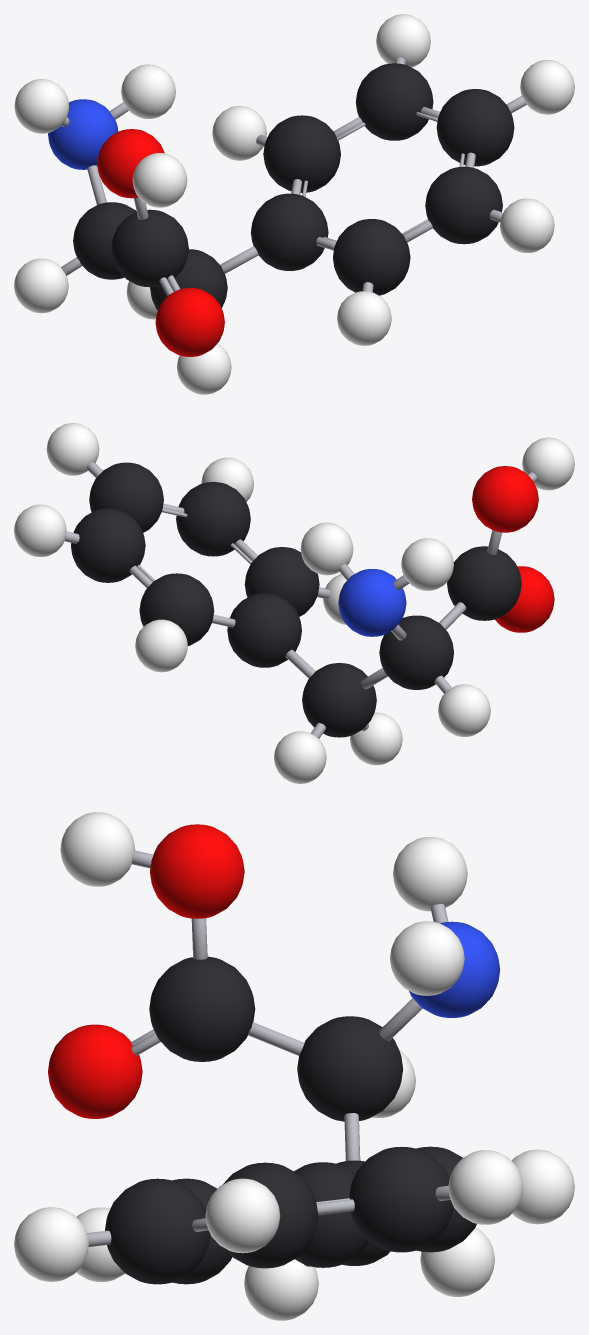
The model's file is phenylalanine.glb.
3 renders of one model, top to bottom at view 1: azimuth 30°, elevation 25°; view 2: azimuth 150°, elevation 25°; view 3: azimuth 270°, elevation 25°, orthographic. The views are drawn at different scales.
Parts seen in each view (by area): view 1: C3, C7, C5, C6, C4, C9, C8, O10, N0, C1, O11, H22 (+11 smaller); view 2: C3, C5, C7, C2, C9, C1, N0, C4, O11, C6, C8, O10 (+11 smaller); view 3: C9, C1, C7, C5, O11, O10, C6, H19, H18, H13, H20, H22 (+15 smaller).
Boxes of the visible parts, bbox=[...] form: C3: bbox=[250, 193, 328, 270]; C7: bbox=[425, 166, 502, 244]; C5: bbox=[355, 63, 433, 140]; C6: bbox=[436, 89, 514, 166]; C4: bbox=[263, 115, 340, 192]; C9: bbox=[111, 209, 188, 287]; C8: bbox=[333, 219, 410, 295]; O10: bbox=[155, 287, 224, 356]; N0: bbox=[48, 99, 118, 169]; C1: bbox=[73, 202, 136, 279]; O11: bbox=[97, 129, 164, 198]; H22: bbox=[132, 153, 187, 207]; C3: bbox=[227, 593, 301, 667]; C5: bbox=[71, 508, 145, 582]; C7: bbox=[176, 482, 250, 556]; C2: bbox=[302, 663, 376, 737]; C9: bbox=[447, 546, 521, 620]; C1: bbox=[379, 615, 453, 689]; N0: bbox=[338, 569, 406, 636]; C4: bbox=[139, 573, 214, 646]; O11: bbox=[472, 466, 538, 532]; C6: bbox=[89, 462, 163, 532]; C8: bbox=[244, 547, 319, 616]; O10: bbox=[495, 566, 554, 632]; C9: bbox=[149, 956, 255, 1061]; C1: bbox=[297, 1016, 403, 1121]; C7: bbox=[105, 1178, 210, 1284]; C5: bbox=[349, 1146, 453, 1252]; O11: bbox=[150, 824, 244, 918]; O10: bbox=[48, 1024, 142, 1118]; C6: bbox=[222, 1162, 318, 1268]; H19: bbox=[205, 1178, 280, 1253]; H18: bbox=[448, 1150, 522, 1224]; H13: bbox=[390, 921, 464, 995]; H20: bbox=[14, 1207, 88, 1281]; H22: bbox=[60, 812, 135, 886].
Bounding box in the file's own units: 7.63 × 4.54 × 5.39.
